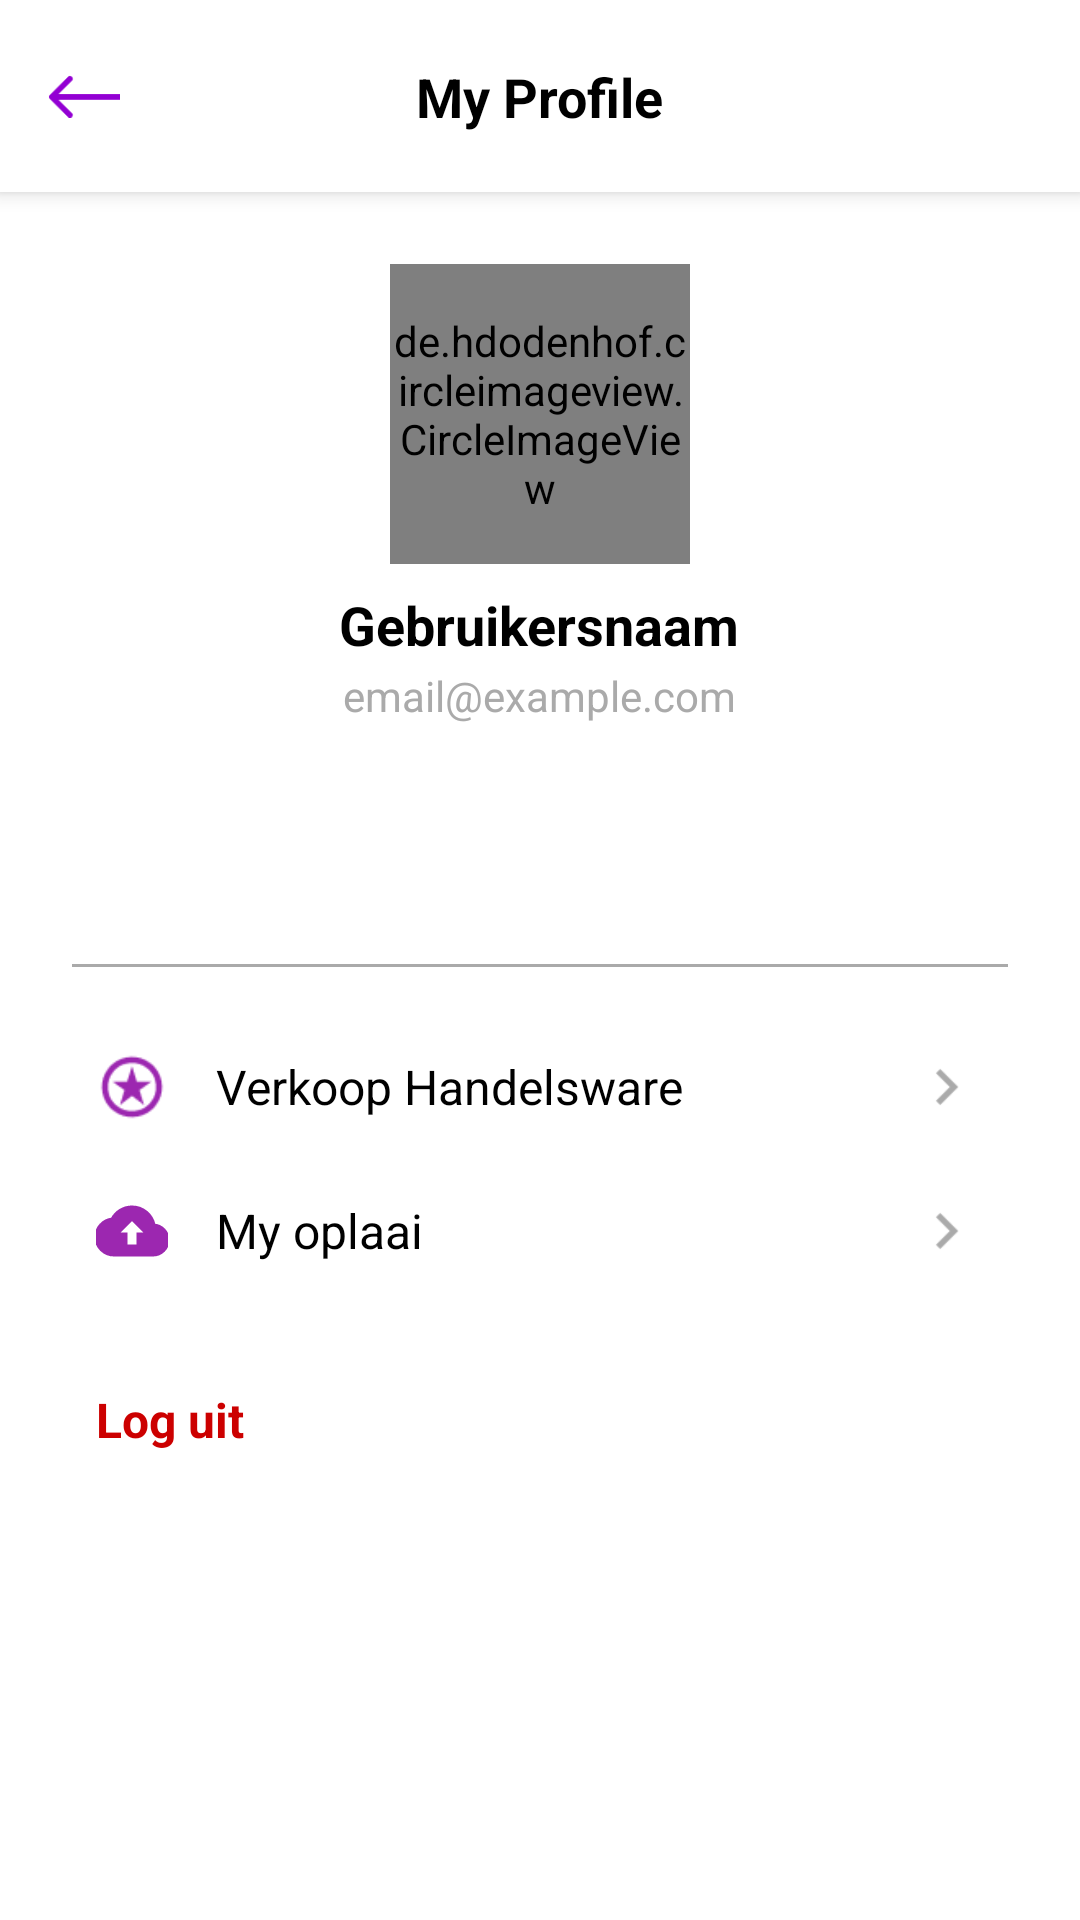

Icons on this 1080 x 1920 Android screen, each with its box as (x1, y1, x2, y2):
Back: (49, 76, 120, 118)
Go: (936, 1069, 958, 1105), (936, 1213, 958, 1249)
My Uploads: (96, 1205, 168, 1257)
